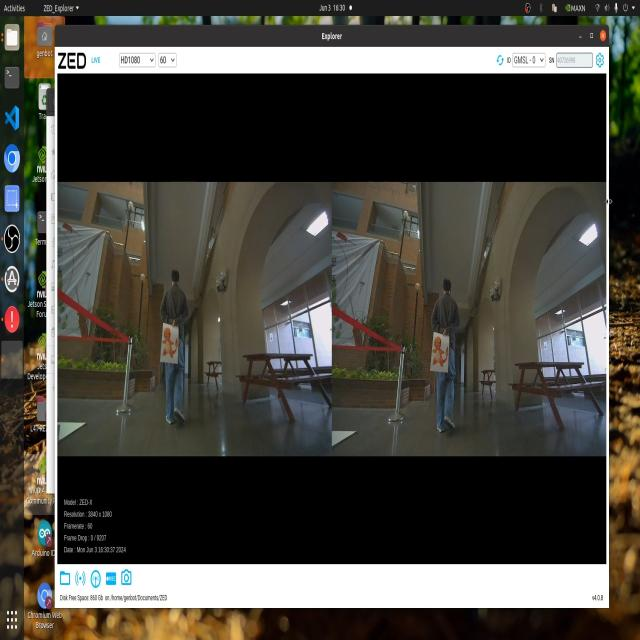red: (158, 320, 185, 365), (427, 333, 454, 373)
